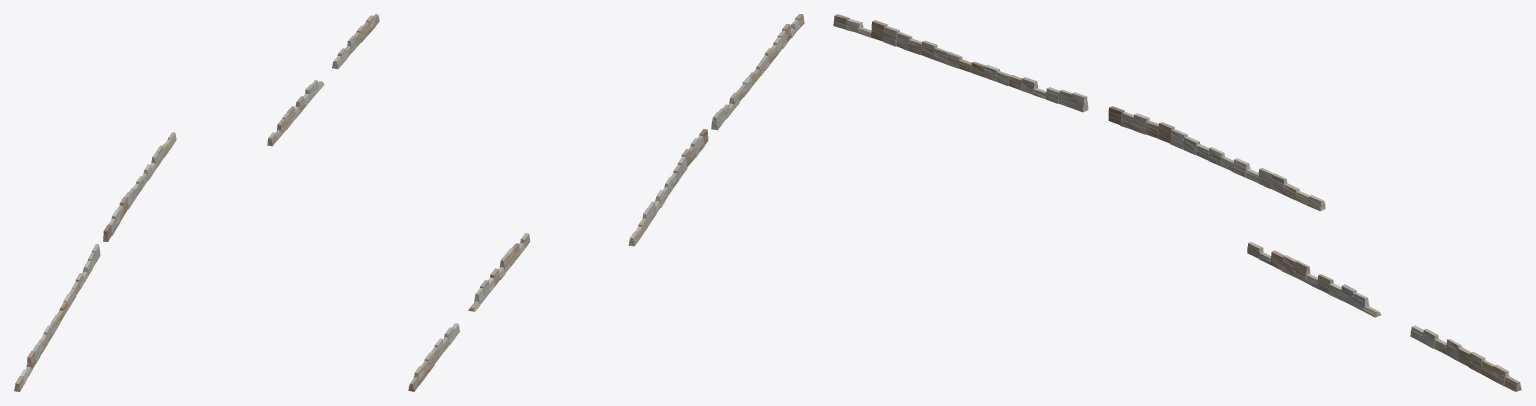
The model's file is farm_-4_7_mid.glb.
3 renders of one model, left to right at view 1: azimuth 30°, elevation 25°; view 2: azimuth 210°, elevation 25°; view 3: azimuth 270°, elevation 25°, orthographic. The views are drawn at different scales.
Parts seen in each view (by area): view 1: geometry_0; view 2: geometry_0; view 3: geometry_0.
Boxes of the visible parts, x1,y1,x2,y2 form: geometry_0: (14, 14, 379, 391); geometry_0: (408, 14, 804, 391); geometry_0: (833, 14, 1521, 391).
Size of the model in its own units: 80 by 4.4 by 60.07.
